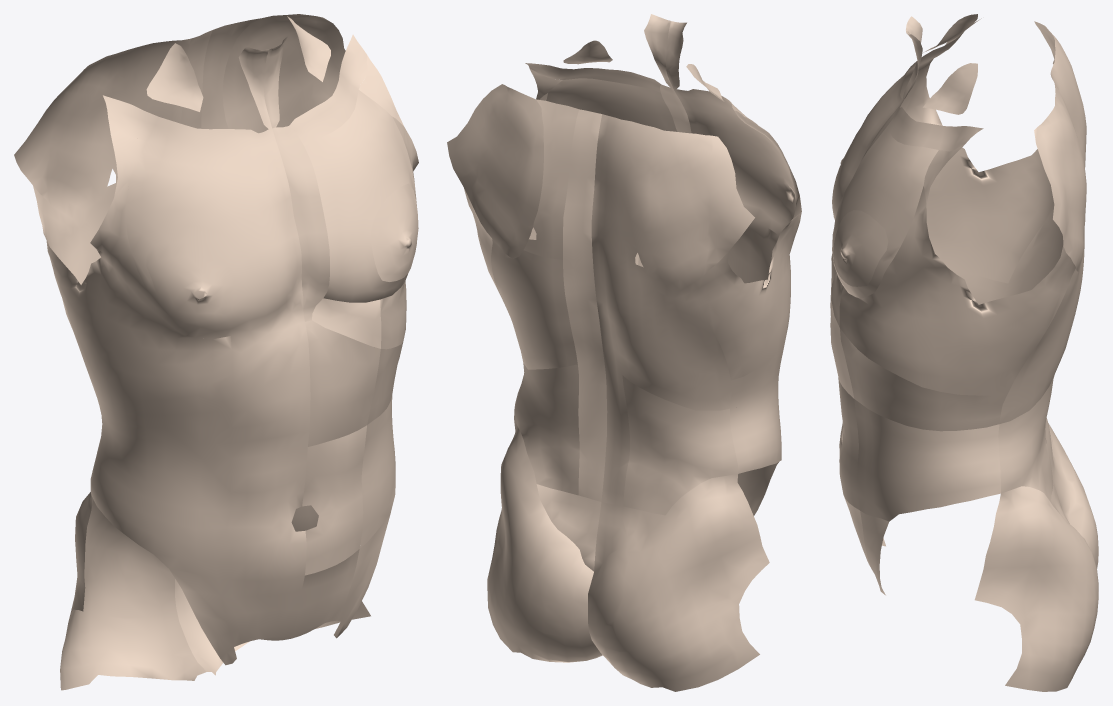
The model's file is lod1-torso-skin.glb.
The picture shows the model from 3 angles, left to right: view 1: azimuth 30°, elevation 25°; view 2: azimuth 150°, elevation 25°; view 3: azimuth 270°, elevation 25°; orthographic projection. The views are drawn at different scales.
Parts seen in each view (by area): view 1: part::Lateral region of thorax.r, part::Pectoral region.r, part::Gluteal region.r, part::Lateral region of abdomen.r, part::Pectoral region.l, part::Scapular region.r, part::Umbilical region.r, part::Scapular region.l, part::Epigastric region.r, part::Hypochondriac region.r, part::Umbilical region.l, part::Epigastric region.l (+27 smaller); view 2: part::Gluteal region.r, part::Gluteal region.l, part::Scapular region.r, part::Infrascapular region.r, part::Scapular region.l, part::Vertebral region.l, part::Lumbar region.r, part::Lateral region of thorax.r, part::Vertebral region.r, part::Infrascapular region.l, part::Lumbar region.l, part::Interscapular region.l (+19 smaller); view 3: part::Lateral region of thorax.l, part::Gluteal region.l, part::Lateral region of thorax.r, part::Lateral region of abdomen.l, part::Pectoral region.l, part::Hypochondriac region.l, part::Scapular region.l, part::Lumbar region.l, part::Infrascapular region.l, part::Mammary region.l, part::Infrascapular region.r, part::Infraclavicular fossa.l (+16 smaller).
Part boxes in pixels (x1,y1,x2,y2): part::Lateral region of thorax.r: (33,181,232,401); part::Pectoral region.r: (125,141,287,339); part::Gluteal region.r: (60,492,206,690); part::Lateral region of abdomen.r: (90,416,231,579); part::Pectoral region.l: (304,90,416,302); part::Scapular region.r: (14,54,124,222); part::Umbilical region.r: (230,447,307,581); part::Scapular region.l: (222,14,345,133); part::Epigastric region.r: (230,322,310,458); part::Hypochondriac region.r: (92,384,233,458); part::Umbilical region.l: (302,425,366,575); part::Epigastric region.l: (305,320,380,446); part::Gluteal region.r: (588,474,769,691); part::Gluteal region.l: (487,419,602,662); part::Scapular region.r: (630,130,754,295); part::Infrascapular region.r: (610,272,731,410); part::Scapular region.l: (447,84,543,258); part::Vertebral region.l: (563,109,607,501); part::Lumbar region.r: (622,375,738,515); part::Lateral region of thorax.r: (687,150,801,380); part::Vertebral region.r: (591,114,629,506); part::Infrascapular region.l: (491,239,577,369); part::Lumbar region.l: (514,363,579,495); part::Interscapular region.l: (523,99,578,259); part::Lateral region of thorax.l: (839,186,1075,395); part::Gluteal region.l: (974,486,1098,691); part::Lateral region of thorax.r: (905,69,1054,283); part::Lateral region of abdomen.l: (854,399,1000,521); part::Pectoral region.l: (832,127,938,298); part::Hypochondriac region.l: (840,328,1007,431); part::Scapular region.l: (1034,105,1086,271); part::Lumbar region.l: (998,375,1054,504); part::Infrascapular region.l: (999,243,1084,423); part::Mammary region.l: (833,210,888,286); part::Infrascapular region.r: (1002,208,1063,297); part::Infraclavicular fossa.l: (887,107,983,151).
Size of the model in its own units: 0.3866 by 0.7207 by 0.2807.
